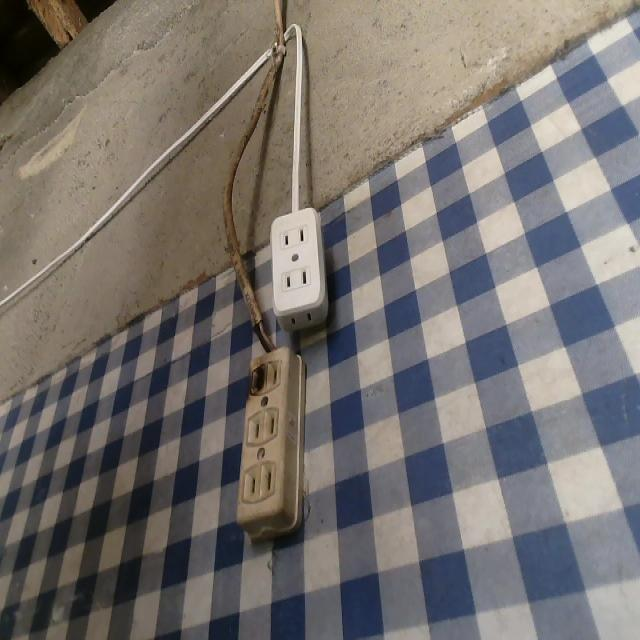-: (246, 356, 269, 399)
